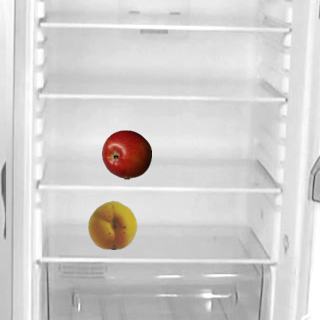Apple Braeburn: (101, 129, 151, 179)
Peach 2: (87, 199, 137, 249)
